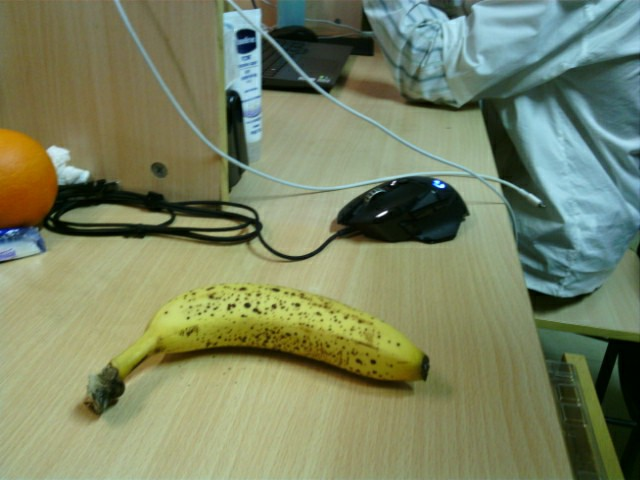normal_banana: (86, 282, 430, 417)
normal_orange: (1, 129, 58, 220)
